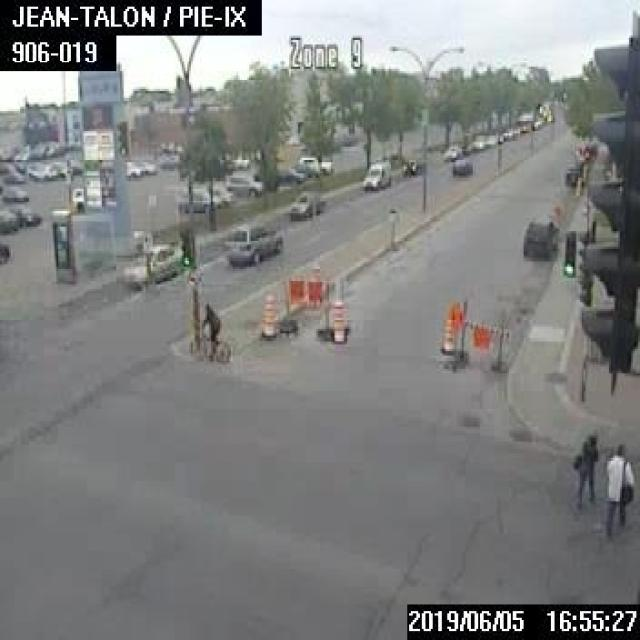construction: (275, 269, 346, 341), (443, 299, 508, 373), (258, 289, 276, 338), (330, 297, 346, 341), (439, 314, 455, 353)
cyclist: (188, 299, 229, 362)
pedestrian: (602, 442, 632, 535), (571, 425, 596, 505)
vehicle: (122, 238, 182, 289), (222, 220, 281, 266), (520, 216, 555, 260), (285, 190, 325, 217), (176, 187, 216, 209), (361, 161, 392, 189), (223, 172, 260, 195), (296, 156, 331, 175), (271, 163, 302, 184), (9, 206, 40, 226), (562, 162, 583, 185), (208, 184, 231, 205), (27, 162, 54, 177), (2, 184, 27, 200), (451, 157, 472, 176), (70, 186, 84, 210), (0, 210, 16, 230), (50, 161, 71, 175), (124, 161, 143, 175), (442, 144, 458, 160), (401, 158, 418, 173), (140, 158, 155, 172), (230, 156, 247, 168), (2, 172, 22, 182), (0, 241, 9, 263)
